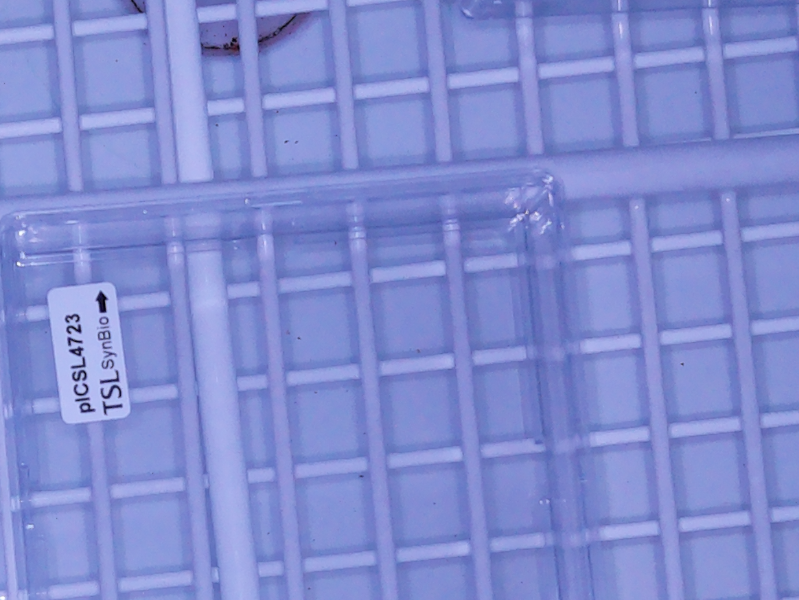plate: (1, 167, 601, 600)
